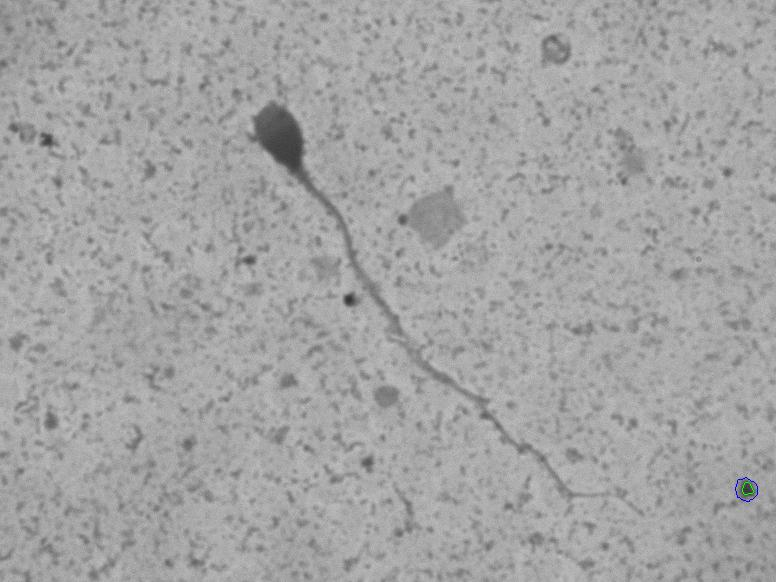Normal: (237, 89, 657, 523)
